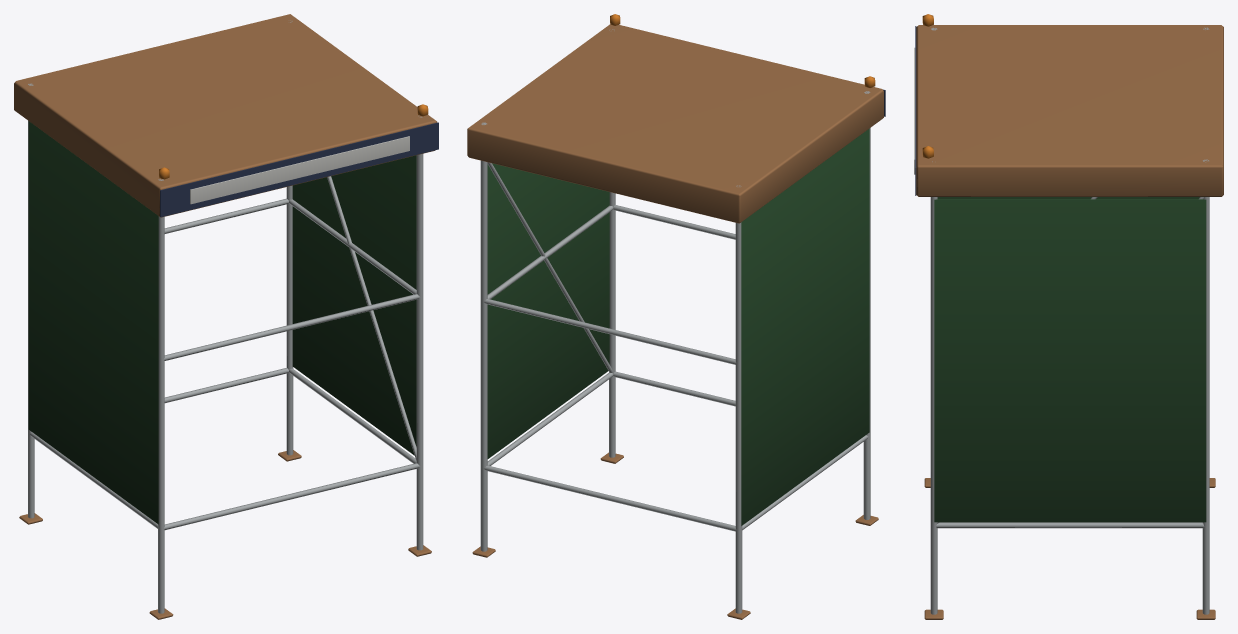
File: ScaffoldGantryMIA.fbx
3 views of the same model, side by side, from view 1: azimuth 30°, elevation 25°; view 2: azimuth 150°, elevation 25°; view 3: azimuth 270°, elevation 25° (orthographic). The views are drawn at different scales.
Parts seen in each view (by area): view 1: ScaffoldGantryMIA; view 2: ScaffoldGantryMIA; view 3: ScaffoldGantryMIA.
Part boxes in pixels (x1,y1,x2,y2): ScaffoldGantryMIA: (14, 14, 438, 619); ScaffoldGantryMIA: (467, 14, 885, 619); ScaffoldGantryMIA: (914, 14, 1223, 619).
Size of the model in its own units: 2.84 by 4.39 by 2.62.
